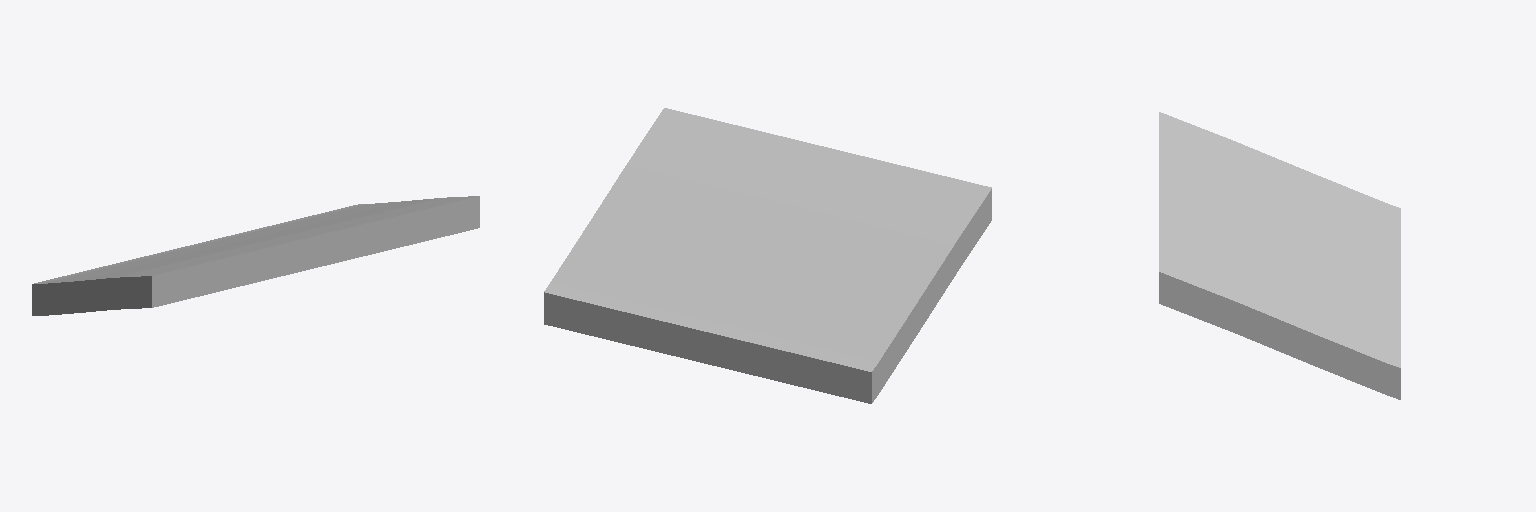
Rendered from house24.obj.
The picture shows the model from 3 angles: view 1: azimuth 30°, elevation 25°; view 2: azimuth 150°, elevation 25°; view 3: azimuth 270°, elevation 25°; orthographic projection.
Parts seen in each view (by area): view 1: 立方体.026; view 2: 立方体.026; view 3: 立方体.026.
Part boxes in pixels (bbox=[...]): 立方体.026: bbox=[32, 196, 479, 315]; 立方体.026: bbox=[544, 108, 991, 403]; 立方体.026: bbox=[1159, 112, 1400, 399].
Size of the model in its own units: 30 by 11.22 by 19.1.